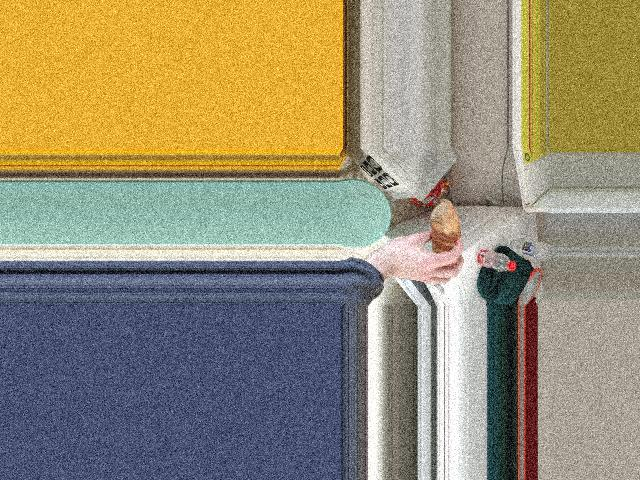sweet_potato: (431, 211, 460, 256)
